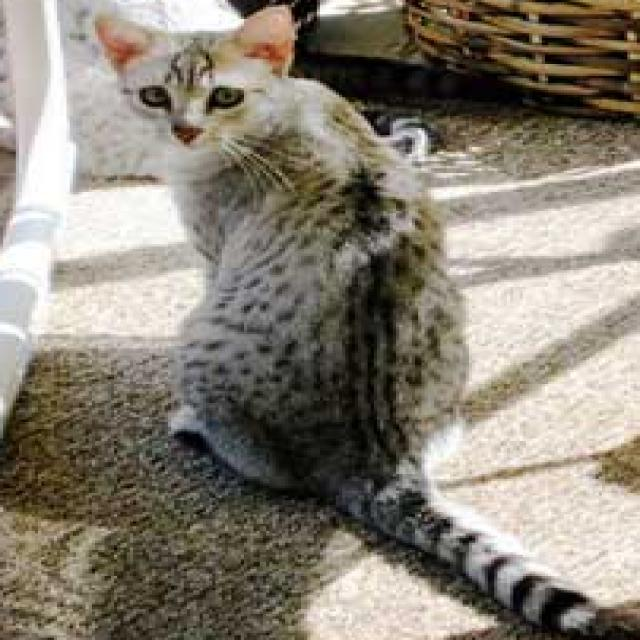Egyptian Mau: (85, 2, 640, 639)
